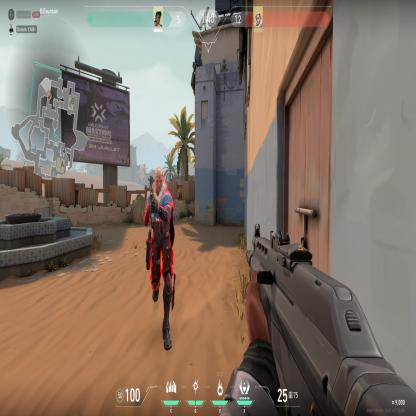enemy: (140, 162, 176, 352)
